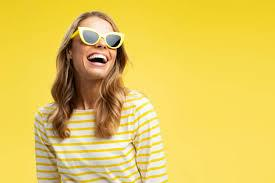sunglasses: (71, 26, 127, 50)
